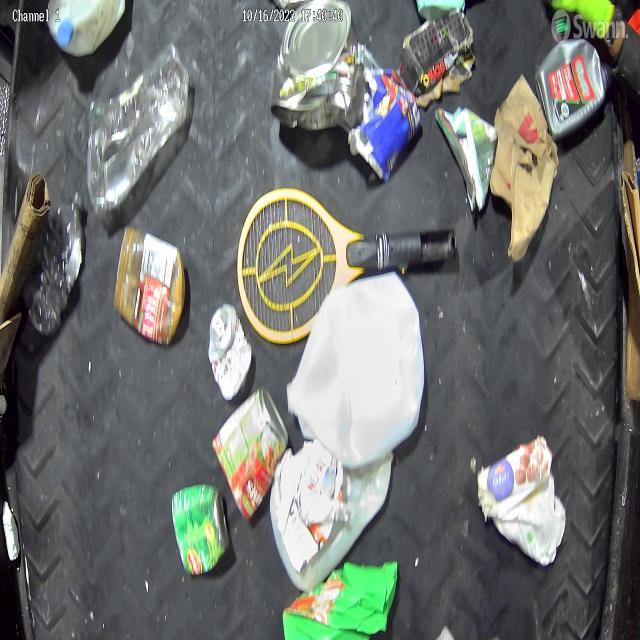can: (271, 5, 364, 130), (217, 388, 284, 529), (169, 485, 227, 565), (208, 306, 252, 392)
milk_jug: (287, 265, 420, 452)
non_white_jug: (284, 563, 396, 640)
plastic_bottle: (90, 46, 192, 215), (24, 198, 86, 326)
